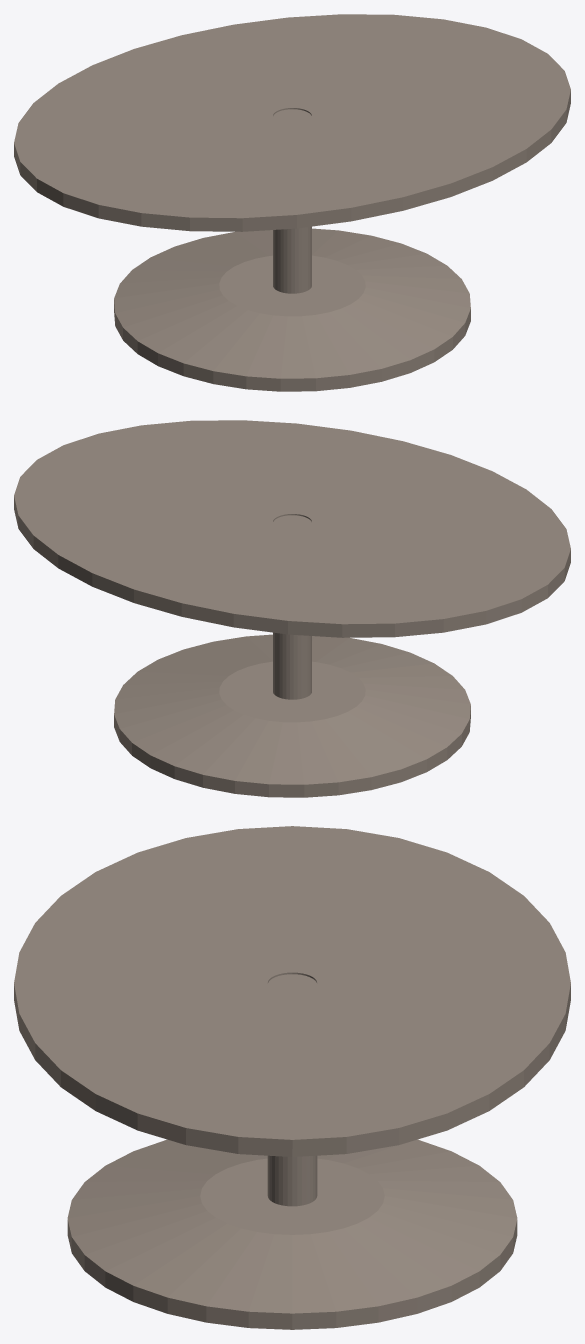
The model's file is Table2réu.fbx.
3 renders of one model, top to bottom at view 1: azimuth 30°, elevation 25°; view 2: azimuth 150°, elevation 25°; view 3: azimuth 270°, elevation 25°, orthographic. The views are drawn at different scales.
Parts seen in each view (by area): view 1: Cylinder; view 2: Cylinder; view 3: Cylinder.
Part boxes in pixels (left/top/right/bottom): Cylinder: left=14, top=14, right=570, bottom=391; Cylinder: left=14, top=420, right=570, bottom=797; Cylinder: left=14, top=826, right=570, bottom=1329.
Bounding box in the file's own units: 1650 × 617 × 1238.
